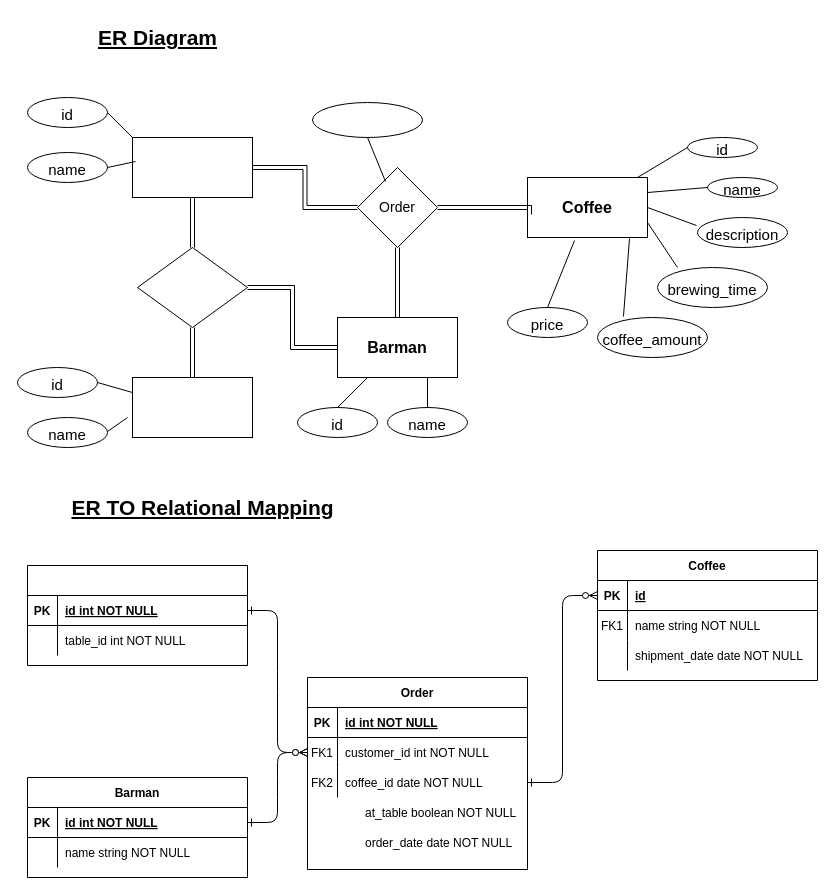
Image size: 835x895. Some labels were removed from this diagram. Each missing label, with the box of its shape:
at_table: (312, 102, 422, 138)
Barista: (132, 376, 252, 438)
Customer: (132, 136, 252, 198)
Customers: (26, 564, 248, 666)
Takes_order: (136, 246, 248, 328)
